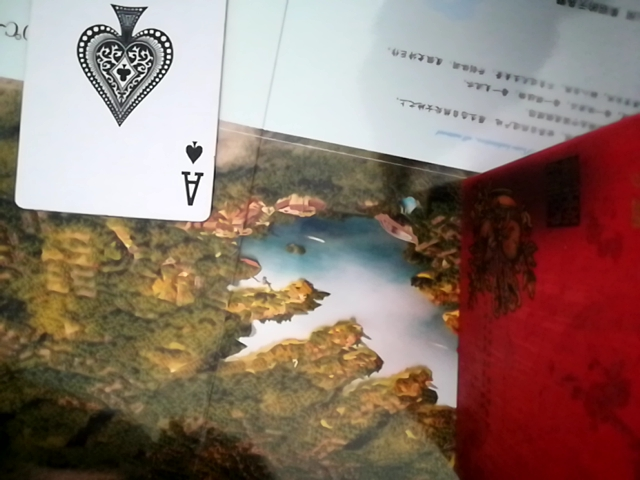ht a: (0, 0, 234, 223)
